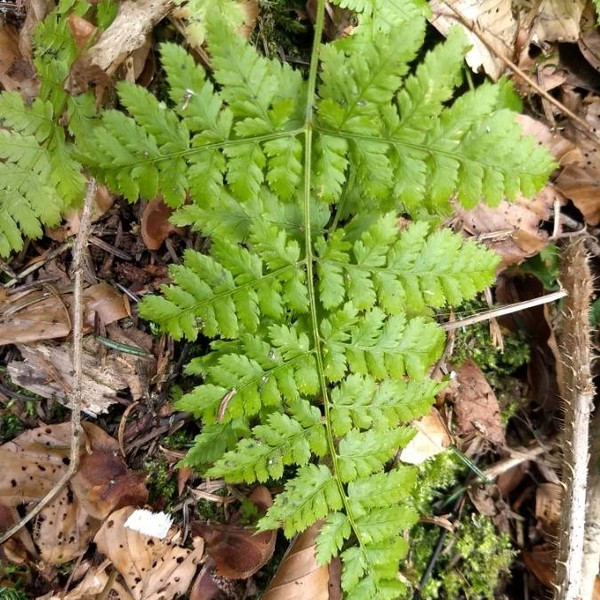obstacle: (86, 23, 526, 579)
